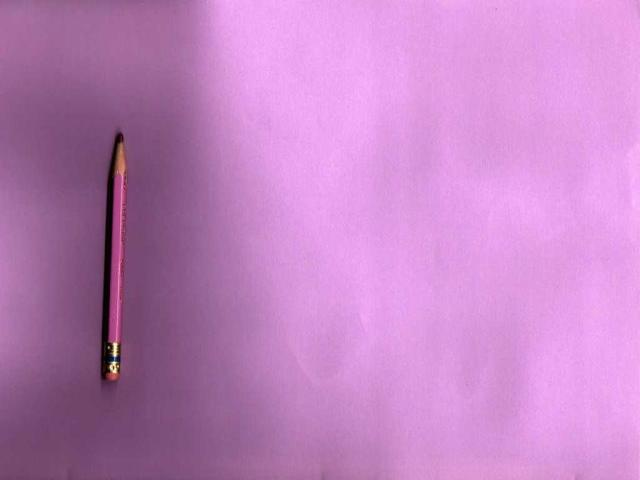PEN: (94, 117, 133, 390)
